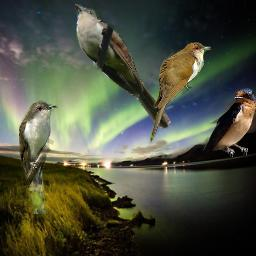Cuckoo: (75, 4, 171, 129), (150, 41, 211, 144), (19, 98, 58, 214)
Swallow: (202, 88, 256, 157)
